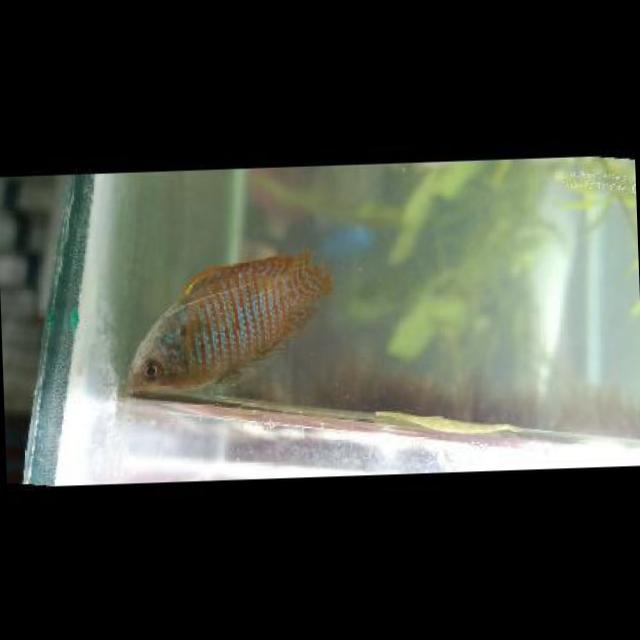Gourami: (116, 243, 337, 398)
